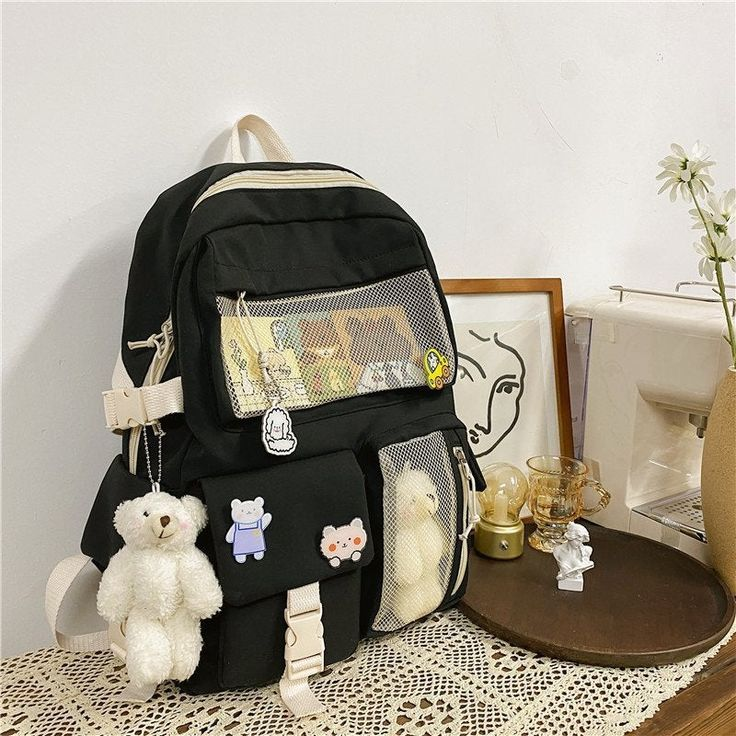nylon: (44, 114, 488, 716)
